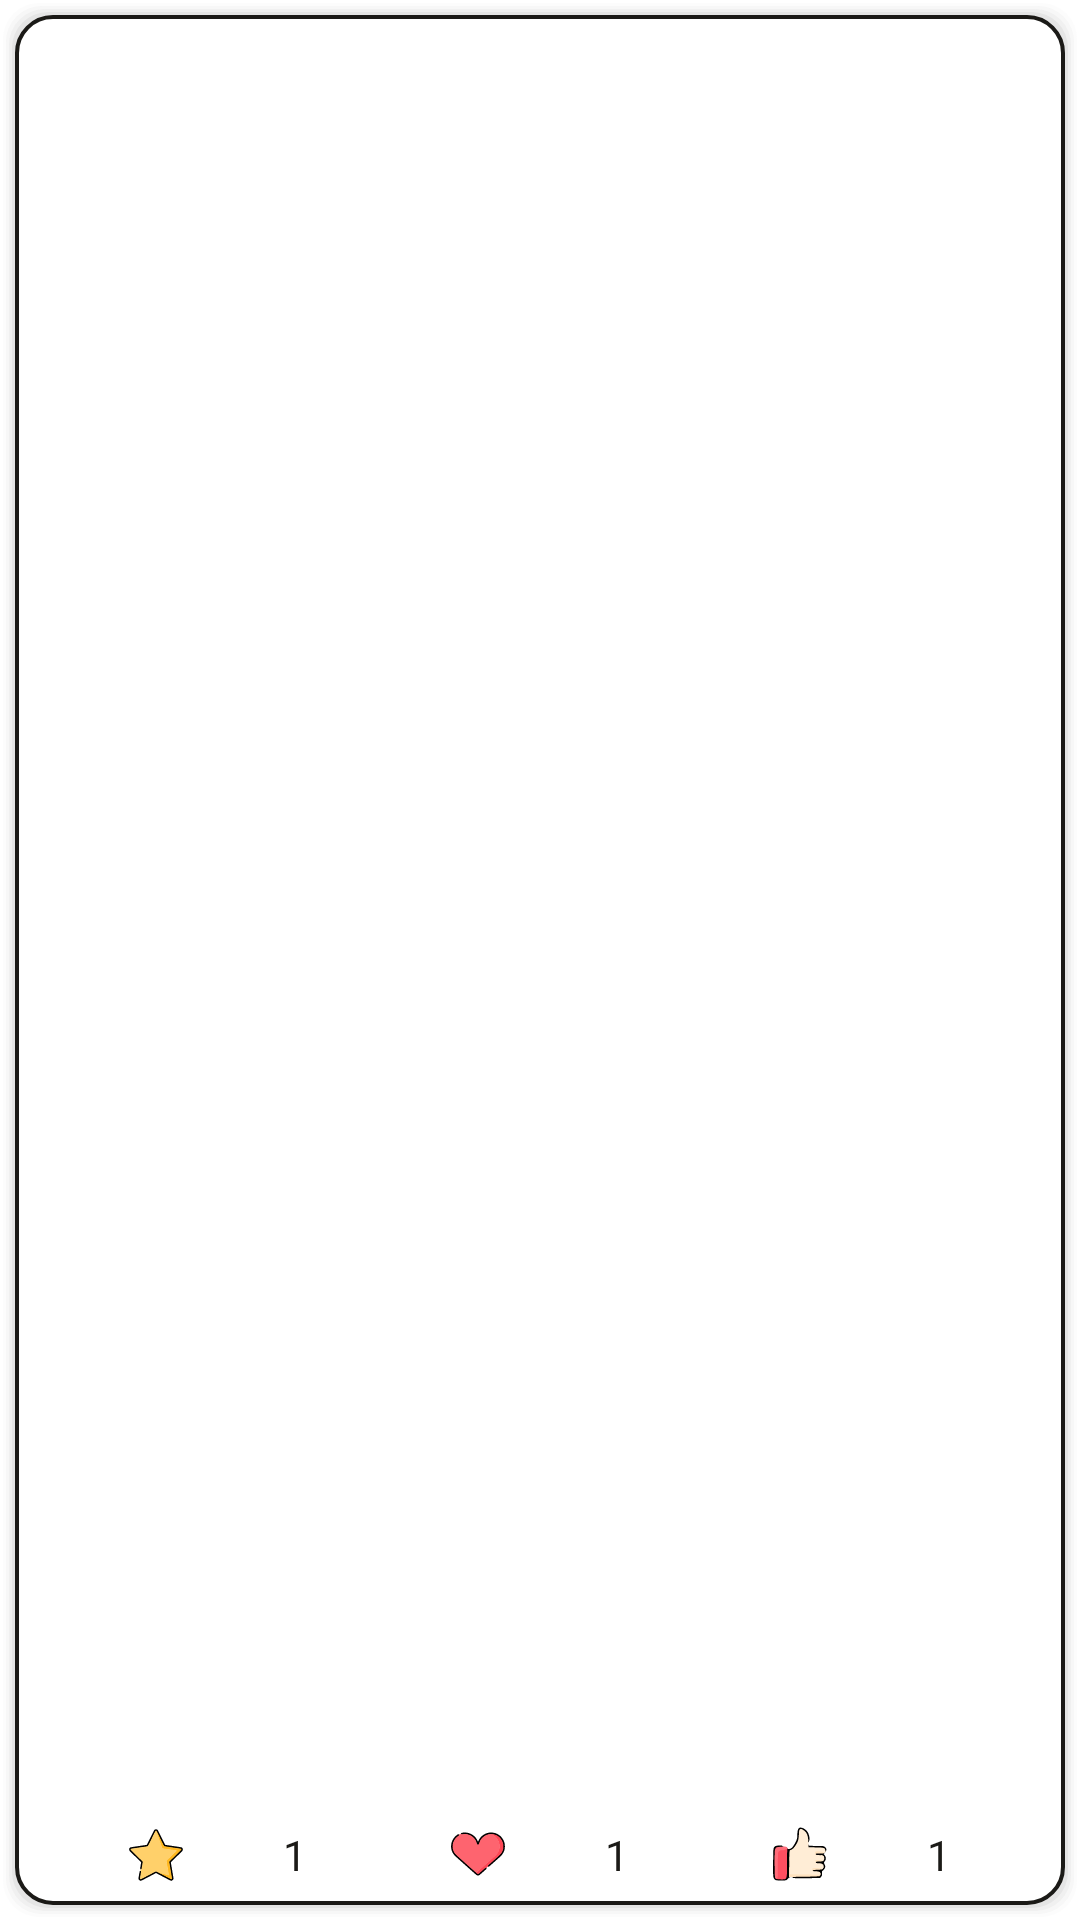

Named icons in this screenshot (1080 x 1920) and their centers, point (x, y):
heart: point (478, 1854)
star: point (156, 1855)
thumb: point (800, 1854)
